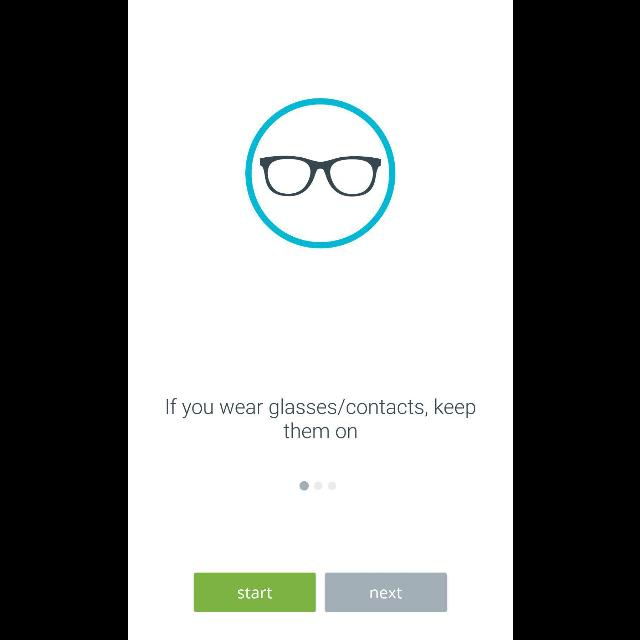image: (244, 98, 396, 248)
pageindicator: (298, 481, 336, 491)
text: (165, 397, 475, 439)
textbutton: (193, 572, 315, 612), (324, 572, 446, 612)
